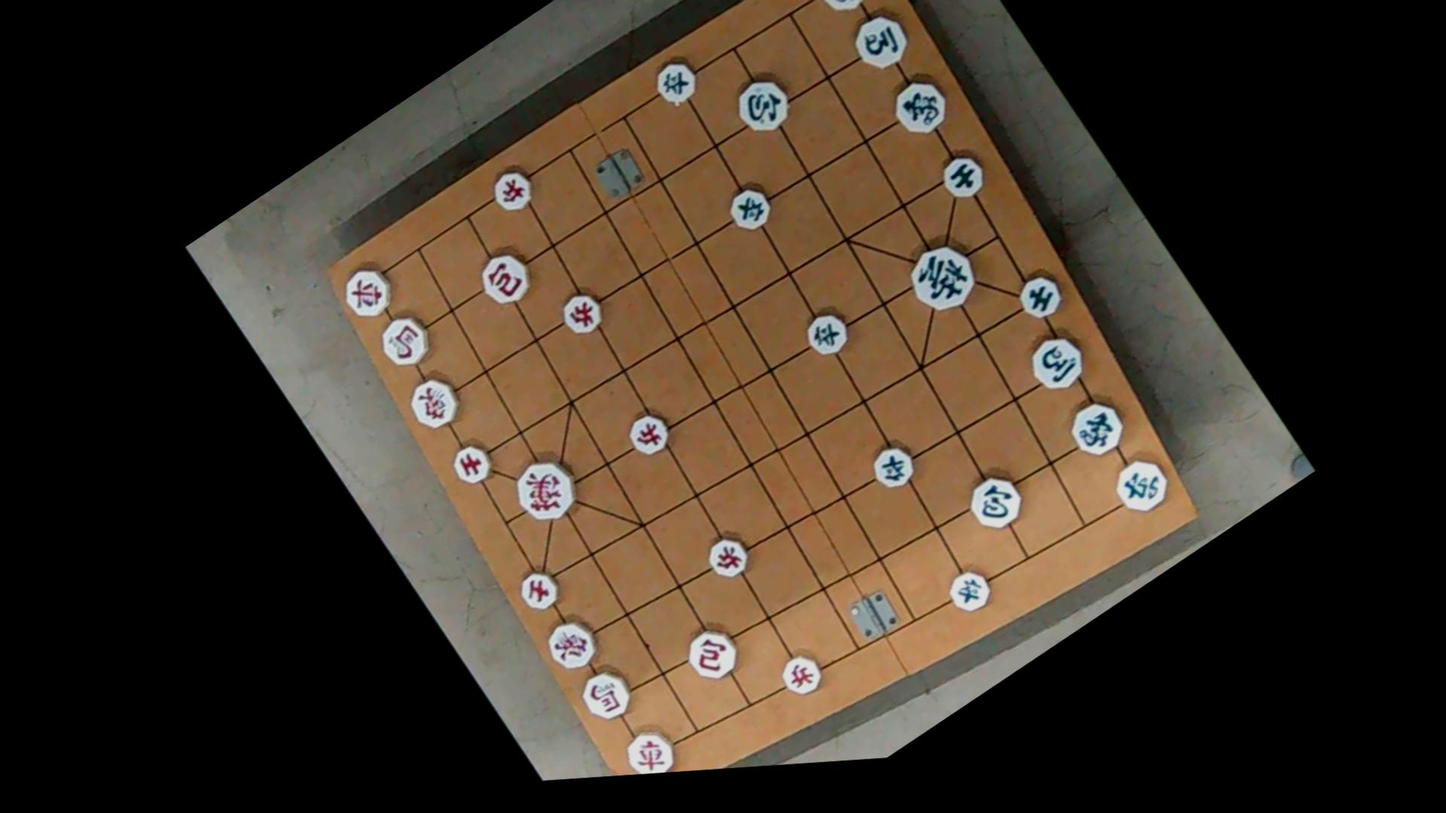cha_green: (1106, 448, 1178, 520), (808, 0, 879, 23)
cha_red: (334, 260, 398, 327), (619, 720, 682, 775)
jol_green: (649, 55, 706, 113), (863, 437, 920, 495), (799, 303, 856, 360), (941, 562, 997, 620), (722, 184, 776, 239)
jol_red: (552, 282, 608, 340), (775, 647, 830, 703), (486, 159, 540, 216), (702, 530, 756, 586), (622, 406, 676, 460)
ma_green: (1020, 326, 1092, 400), (844, 5, 915, 77)
ma_red: (371, 306, 438, 374), (575, 662, 639, 729)
po_green: (958, 463, 1034, 541), (731, 69, 801, 142)
po_red: (472, 242, 539, 311), (679, 621, 744, 689)
sa_green: (934, 148, 991, 206), (1010, 268, 1066, 325)
sa_red: (513, 562, 566, 617), (445, 437, 496, 491)
sang_green: (882, 69, 958, 145), (1060, 391, 1130, 462)
sang_red: (536, 607, 609, 683), (400, 368, 469, 436)
wang_green: (899, 230, 987, 320)
wang_red: (506, 451, 585, 531)
